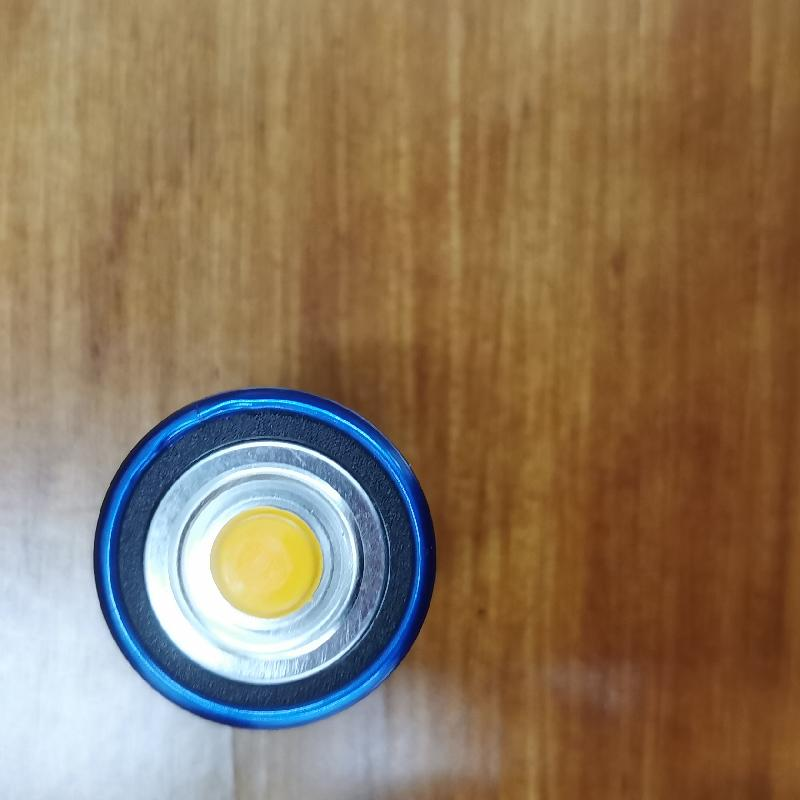battery: (88, 386, 448, 729)
